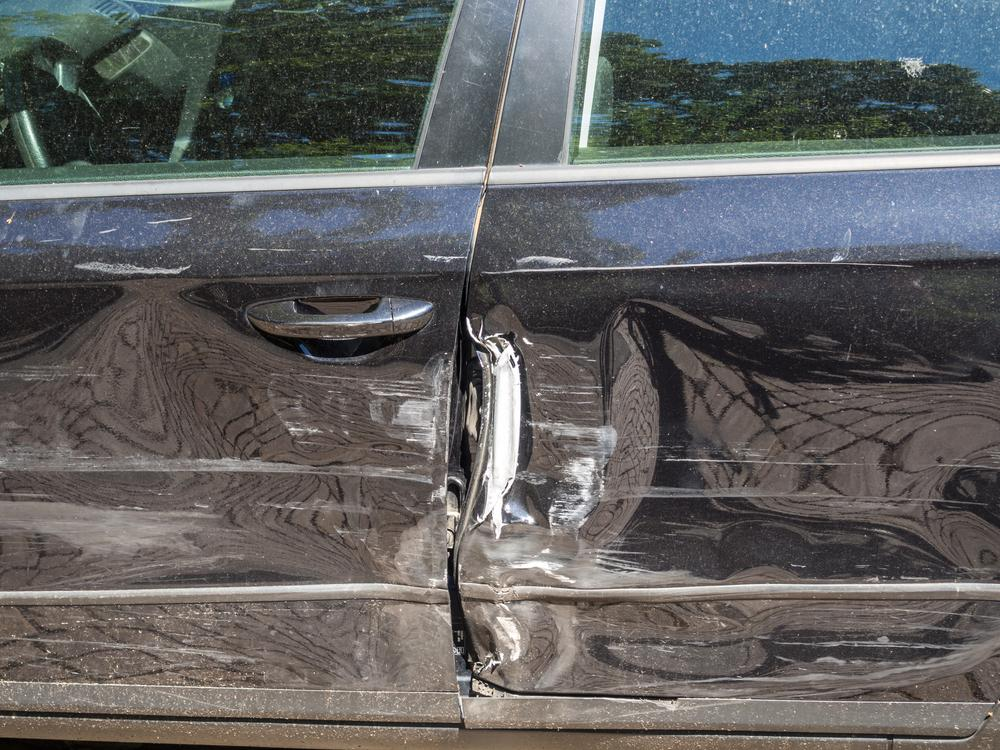dent: (474, 303, 1000, 694), (0, 285, 446, 577)
scratch: (60, 215, 200, 277), (480, 257, 924, 276)
